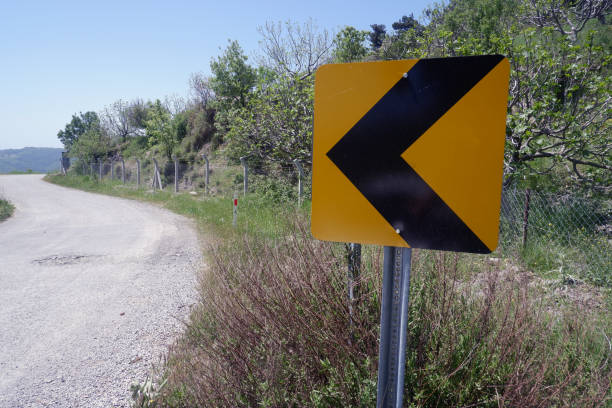left turn: (317, 59, 497, 252)
